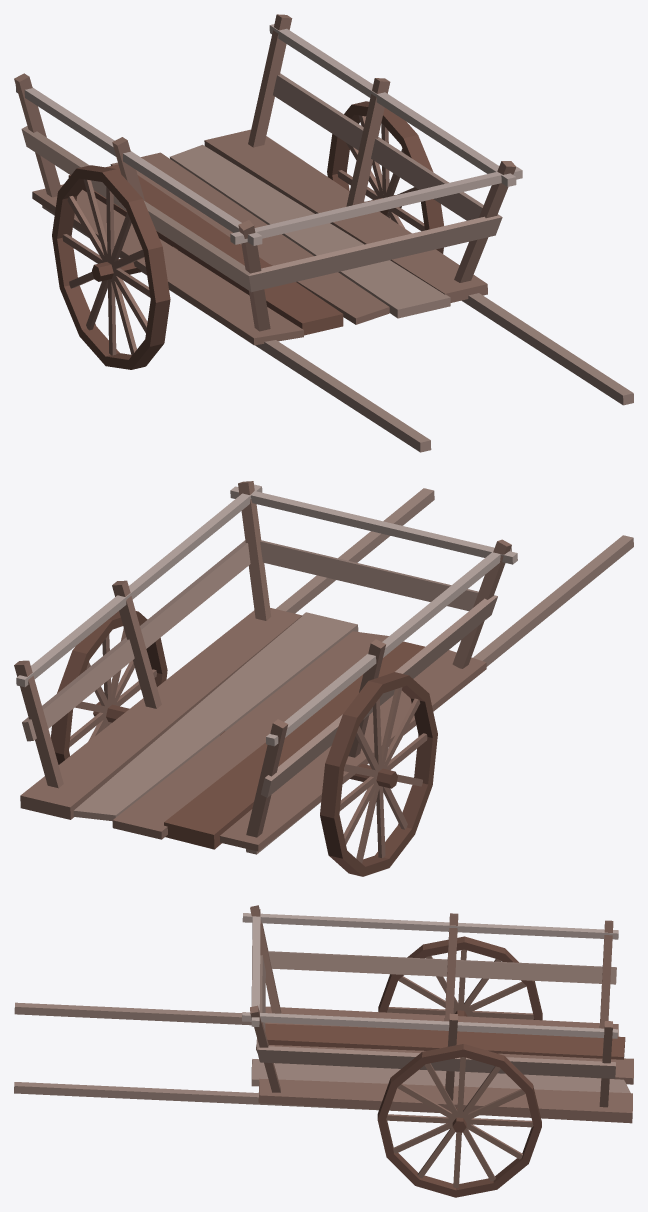
The model's file is prop_006.fbx.
3 views of the same model, one above another, from view 1: azimuth 30°, elevation 25°; view 2: azimuth 150°, elevation 25°; view 3: azimuth 270°, elevation 25° (orthographic). The views are drawn at different scales.
Parts seen in each view (by area): view 1: prop.006; view 2: prop.006; view 3: prop.006.
Boxes of the visible parts, left/top/right/bottom form: prop.006: left=14, top=14, right=633, bottom=452; prop.006: left=14, top=481, right=633, bottom=876; prop.006: left=14, top=905, right=633, bottom=1197.
Size of the model in its own units: 336 by 254 by 764.
Materials: 1 (1 with a texture image).
